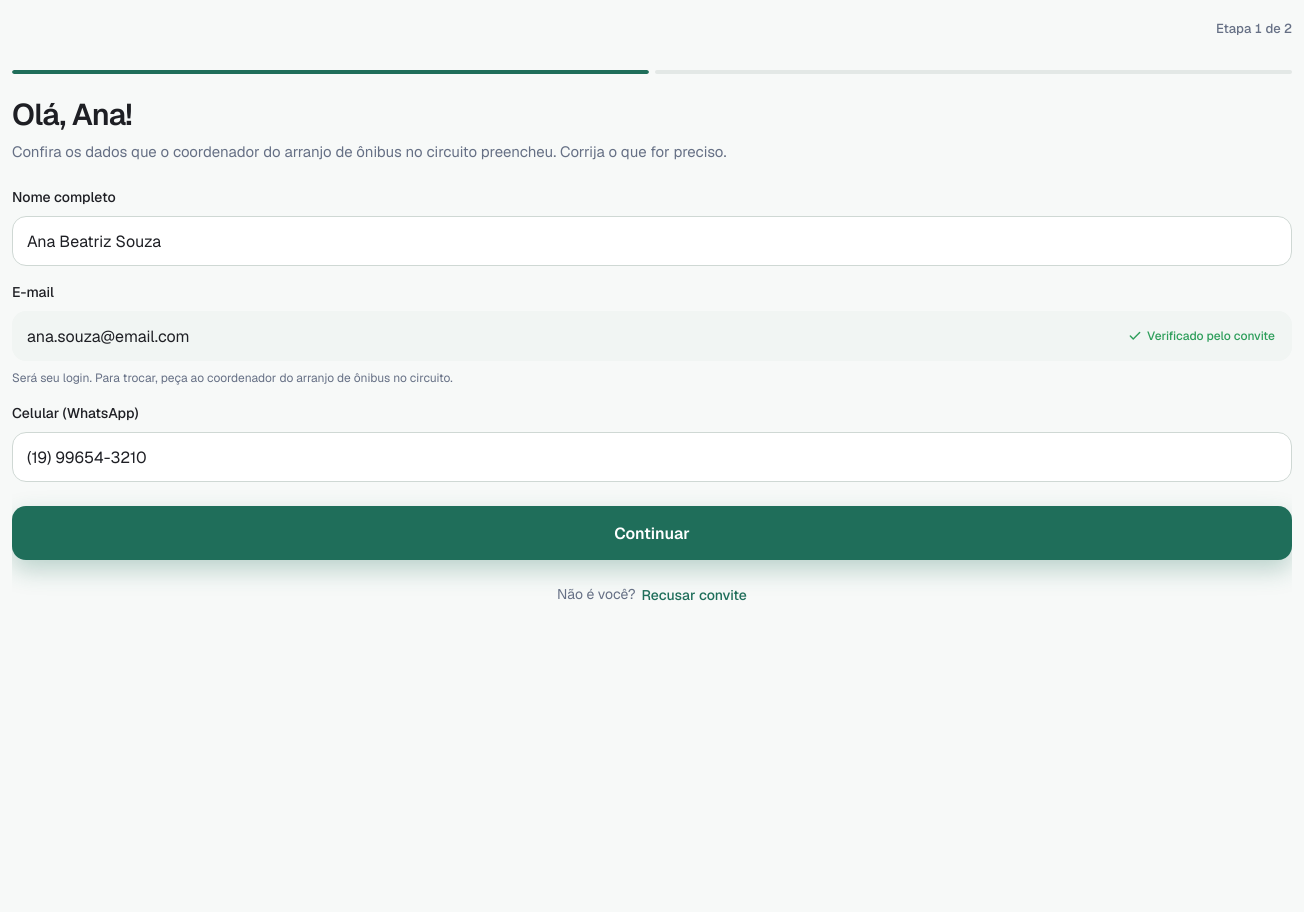
Test: AcceptInvitationFlow — envio › troca o formulário pelo aviso quando o convite deixou de servir
Click the button "Continuar" at (652, 533), box 12,506 -> 1292,560
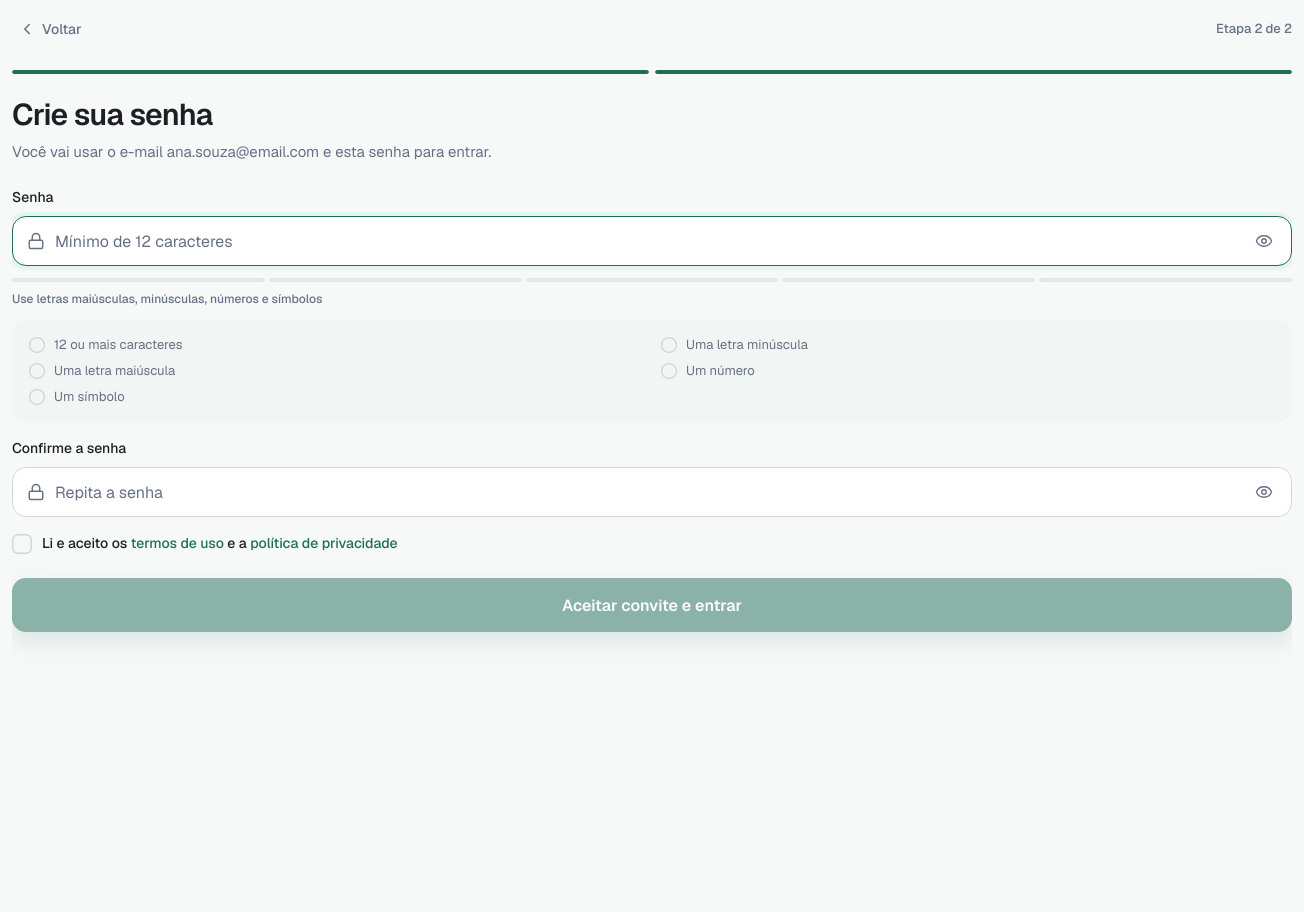
Check: the heading "Crie sua senha" is shown, box 12,95 -> 212,134
Type "Senha@Segura123" into the password field labelled "Senha" at (645, 241), box 55,217 -> 1235,265
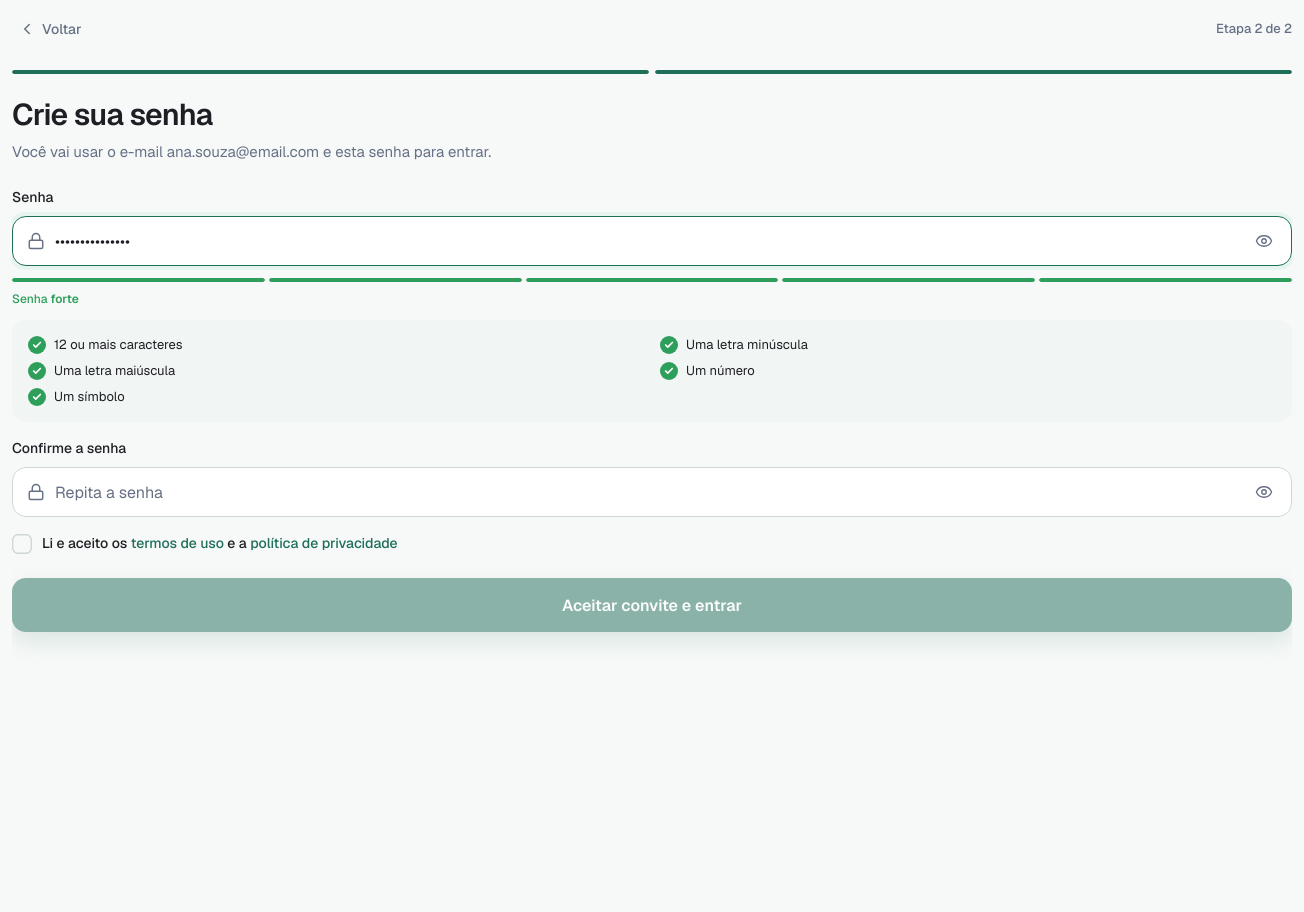
Type "Senha@Segura123" into the password field labelled "Confirme a senha" at (645, 492), box 55,468 -> 1235,516
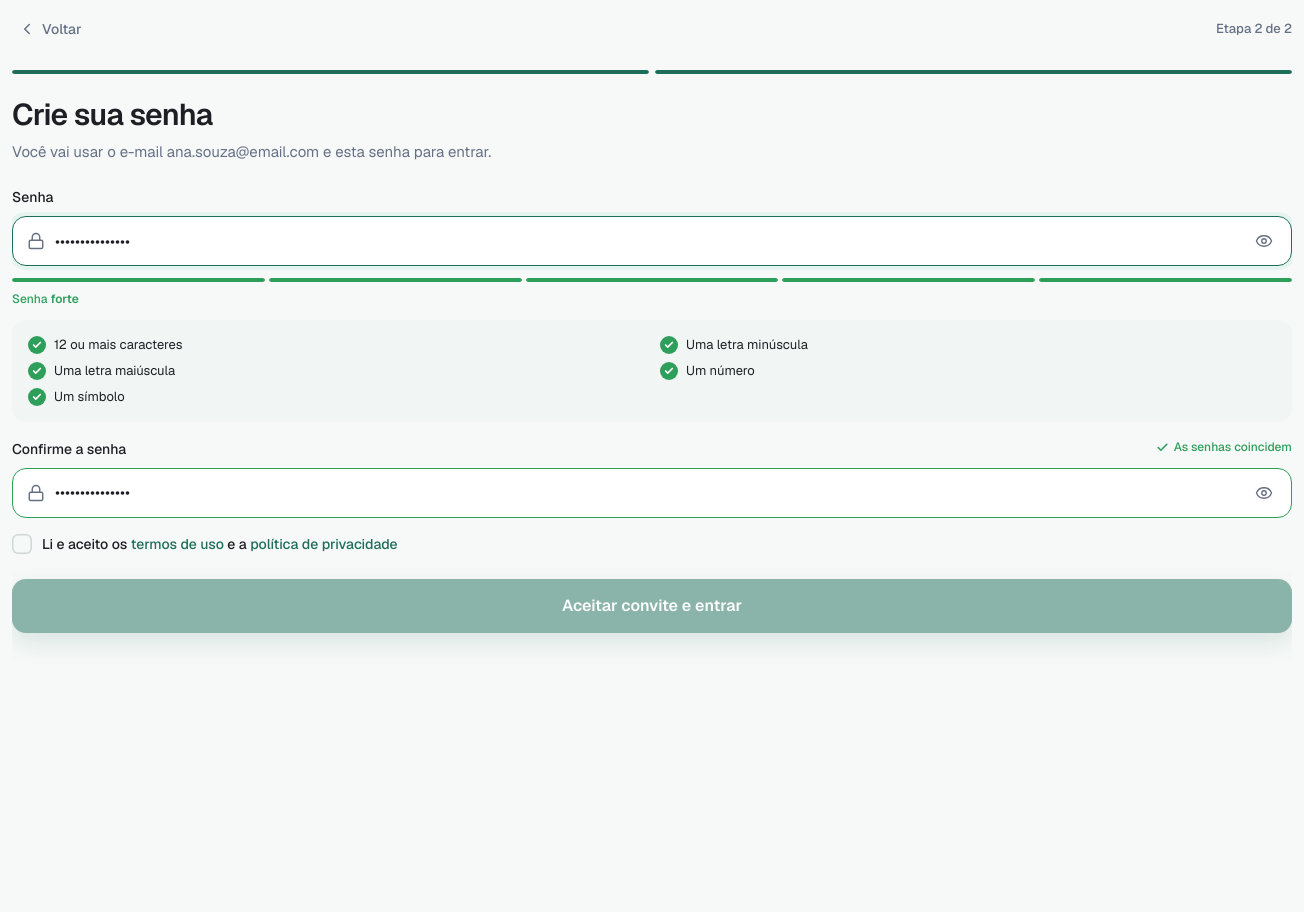
Click the checkbox at (205, 544), box 12,534 -> 398,554
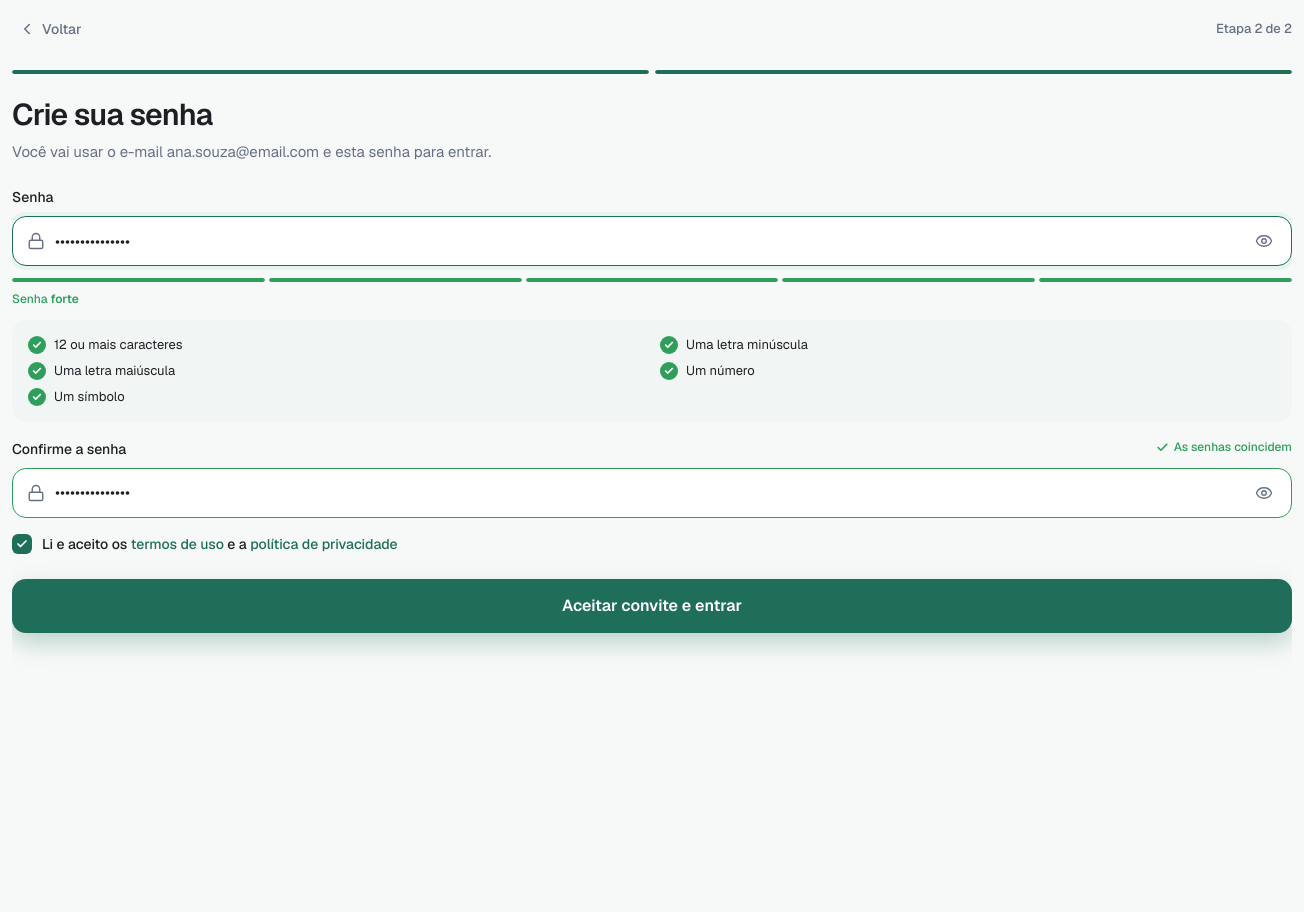
Click the button "Aceitar convite e entrar" at (652, 606), box 12,578 -> 1292,632
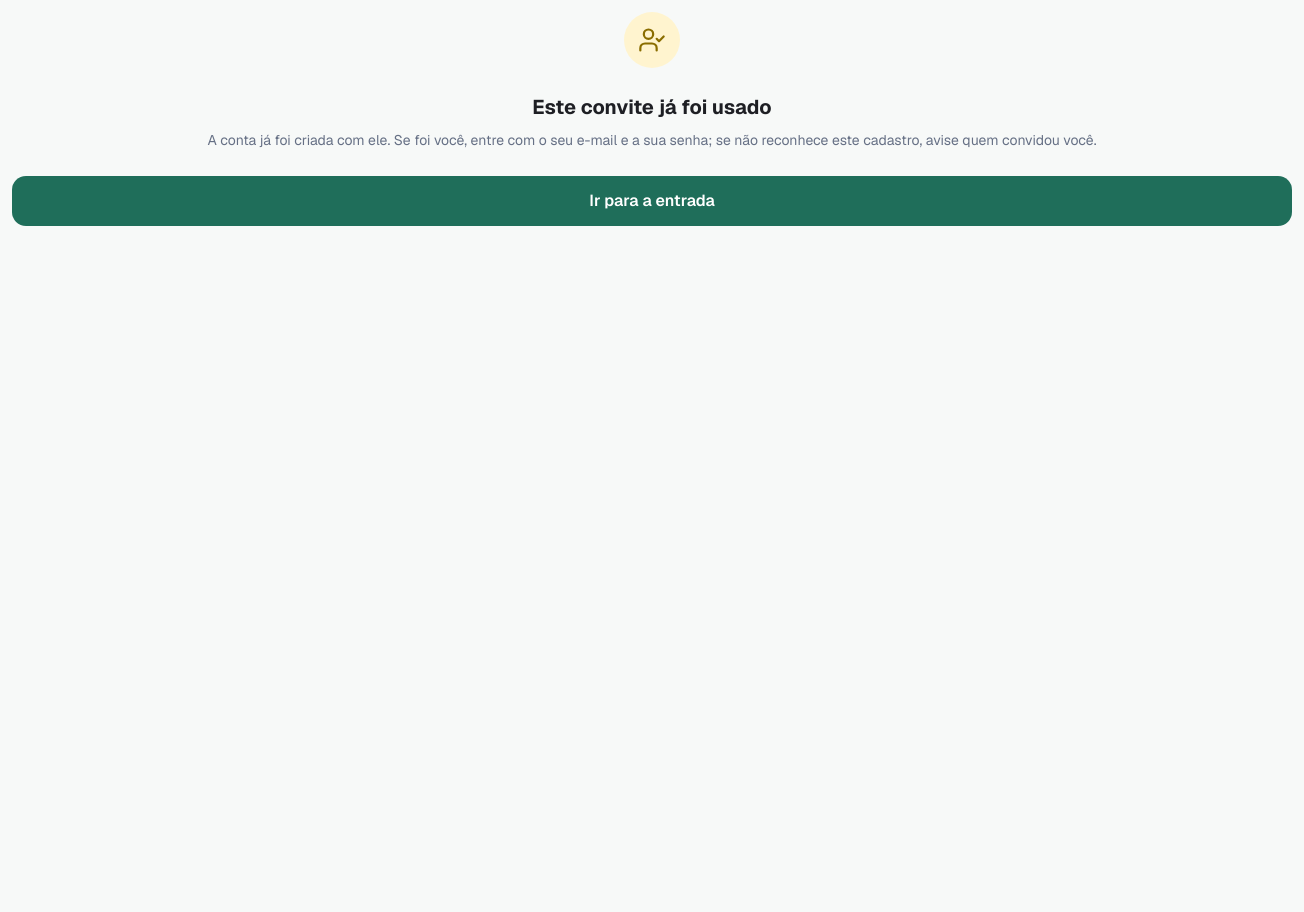
Check: the heading "Este convite já foi usado" is shown, box 532,94 -> 772,120
